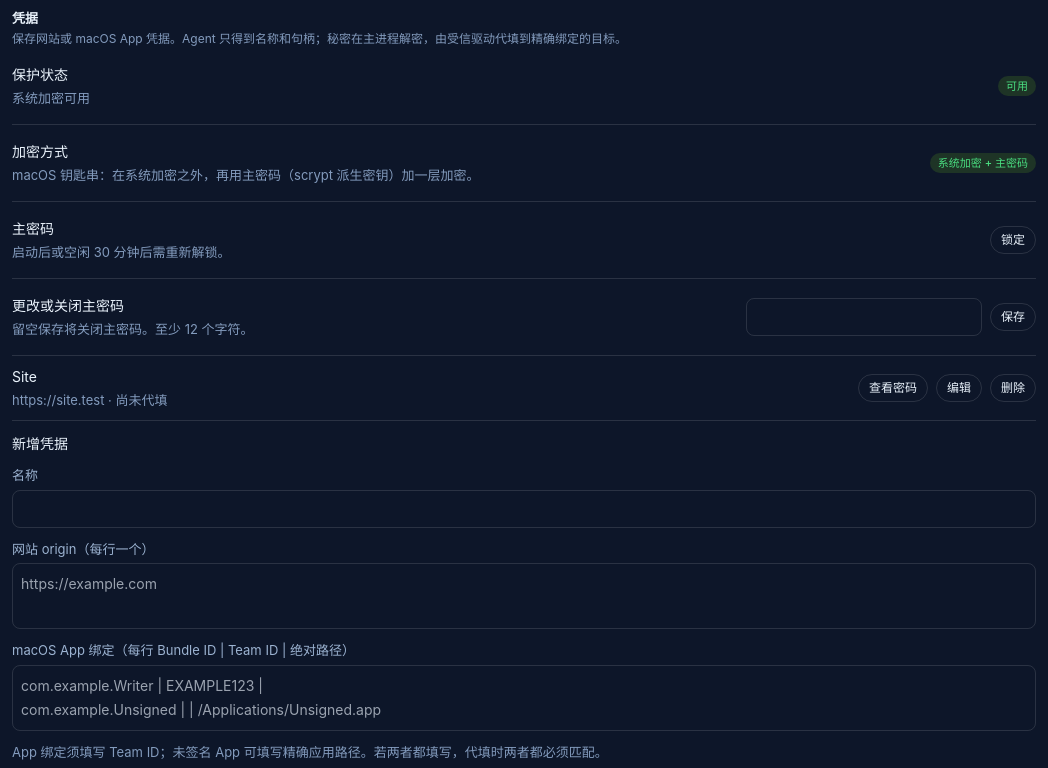
Test case: credential vault settings › shows vault failures in Chinese and refreshes into the locked state
The width and height of the screenshot is (1048, 768).
Click the button "查看密码" at (893, 388), box [858, 374, 928, 402]
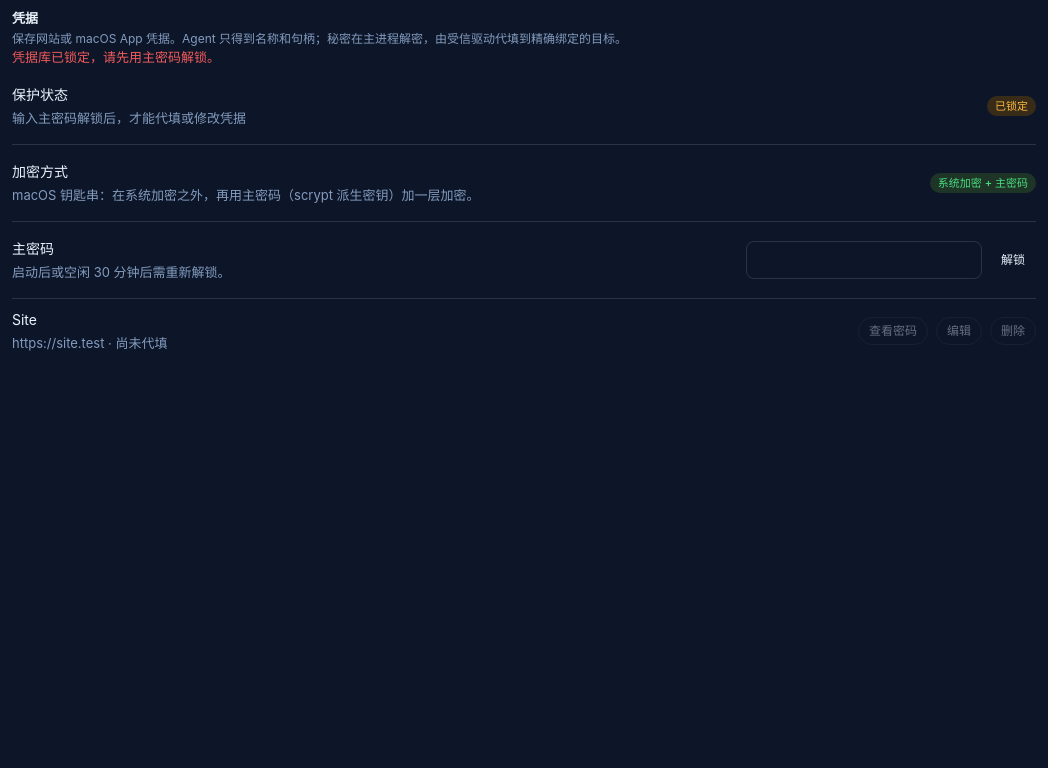
Expected: the message "凭据库已锁定，请先用主密码解锁。" is shown, [12, 49, 220, 65]
Expected: the text "已锁定" is shown, [12, 49, 220, 65]
Expected: the button "解锁" is shown, [990, 246, 1036, 274]
